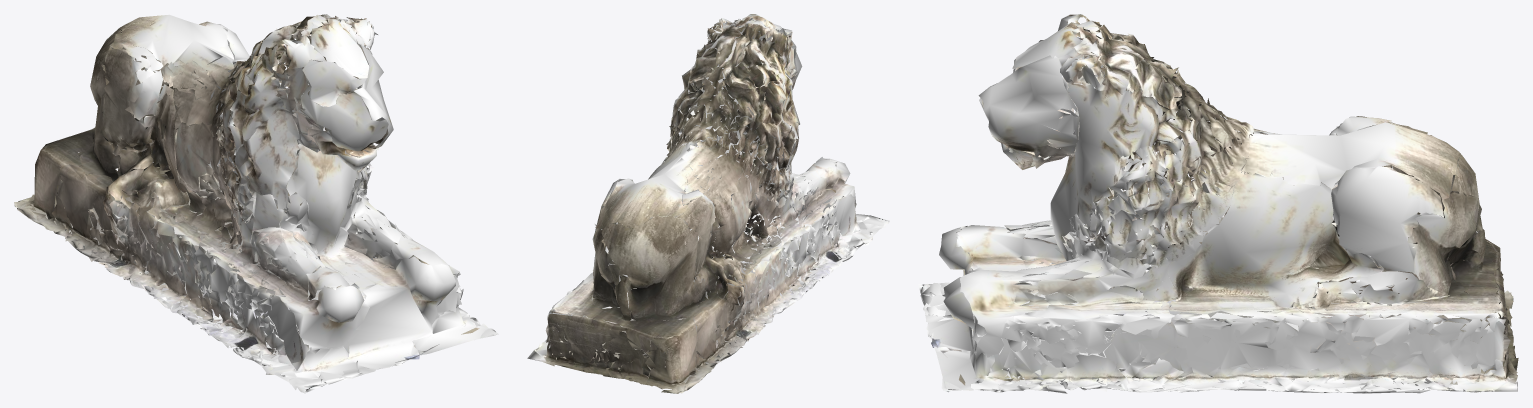
File: lion_couchant.glb
3 renders of one model, left to right at view 1: azimuth 30°, elevation 25°; view 2: azimuth 150°, elevation 25°; view 3: azimuth 270°, elevation 25°, orthographic. The views are drawn at different scales.
Parts seen in each view (by area): view 1: Object_2; view 2: Object_2; view 3: Object_2.
Boxes of the visible parts, bbox=[...] form: Object_2: bbox=[14, 14, 498, 393]; Object_2: bbox=[527, 14, 889, 393]; Object_2: bbox=[918, 14, 1518, 393].
Bounding box in the file's own units: 2.85 × 3.81 × 6.32.
Materials: 1 (1 with a texture image).
